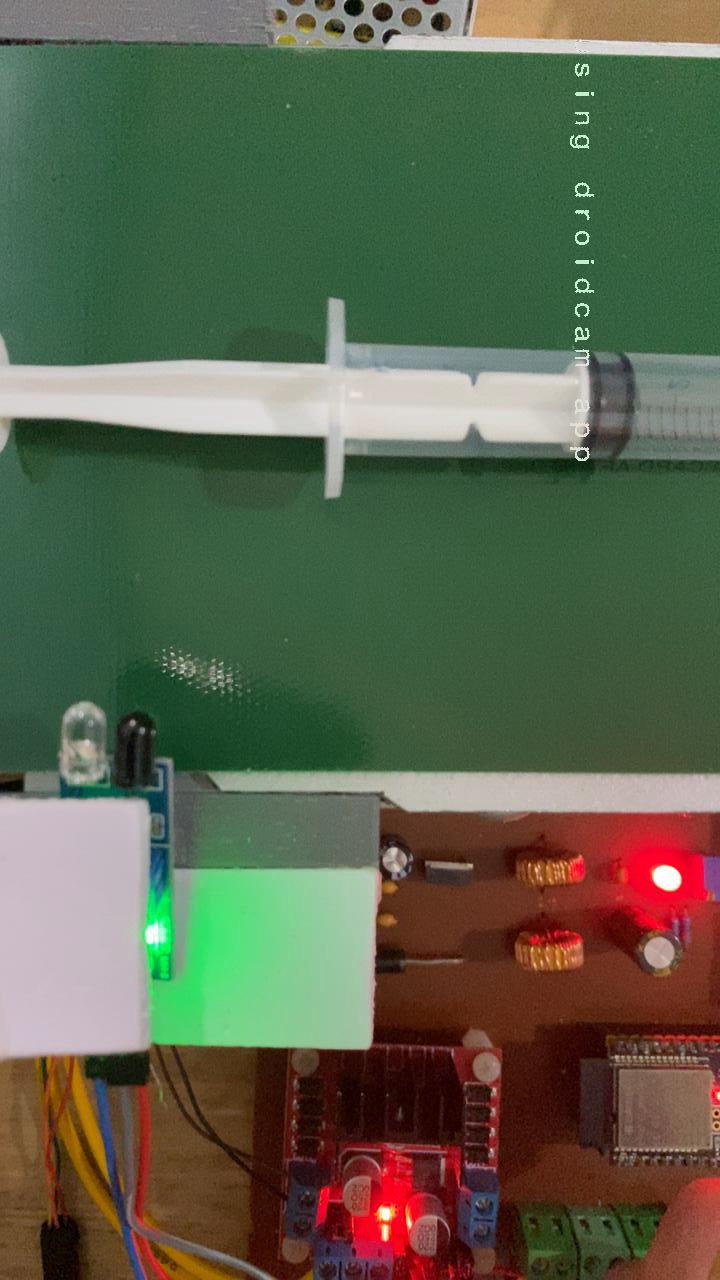syringe: (0, 291, 720, 506)
